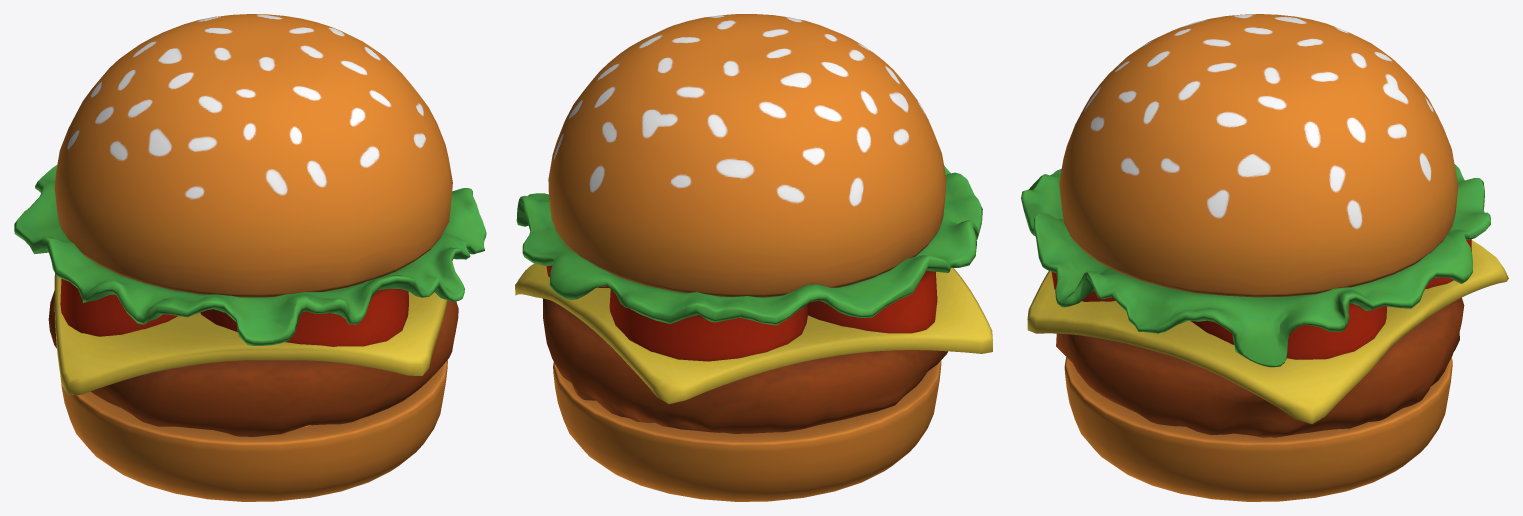
The model's file is food_burger.fbx.
3 views of the same model, side by side, from view 1: azimuth 30°, elevation 25°; view 2: azimuth 150°, elevation 25°; view 3: azimuth 270°, elevation 25° (orthographic).
Visible parts, largest first — view 1: node_id192; view 2: node_id192; view 3: node_id192.
Part boxes in pixels (left/top/right/bottom): node_id192: left=14, top=14, right=486, bottom=501; node_id192: left=515, top=14, right=992, bottom=501; node_id192: left=1021, top=14, right=1508, bottom=501.
Bounding box in the file's own units: 1.29 × 1.18 × 1.3.
1 material, 1 textured.
